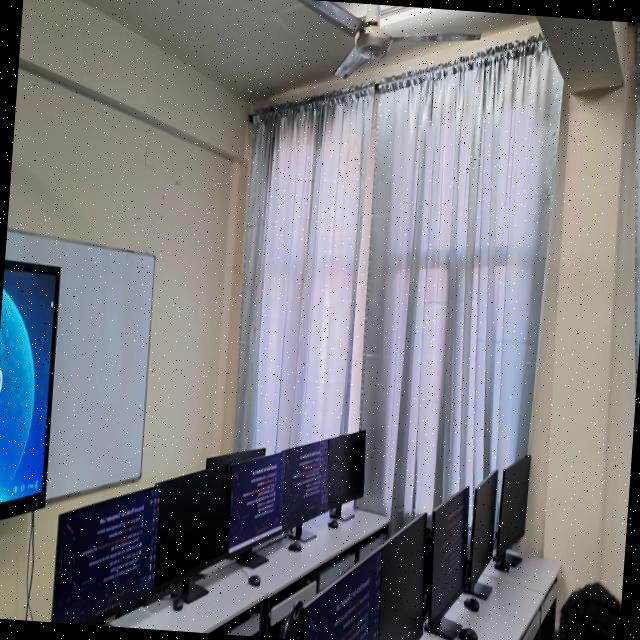Chair: (278, 600, 305, 640)
Digital board: (0, 260, 59, 516)
Monitor: (51, 484, 159, 625), (153, 462, 229, 590), (304, 550, 379, 640), (377, 513, 426, 640), (428, 486, 467, 629), (228, 451, 282, 554), (282, 439, 327, 528), (466, 469, 497, 591), (495, 454, 530, 560), (326, 429, 365, 510)
Mouse: (169, 584, 181, 609), (457, 626, 476, 640), (493, 555, 508, 570), (463, 596, 478, 610), (247, 573, 259, 585), (287, 539, 300, 550), (327, 516, 337, 527)
